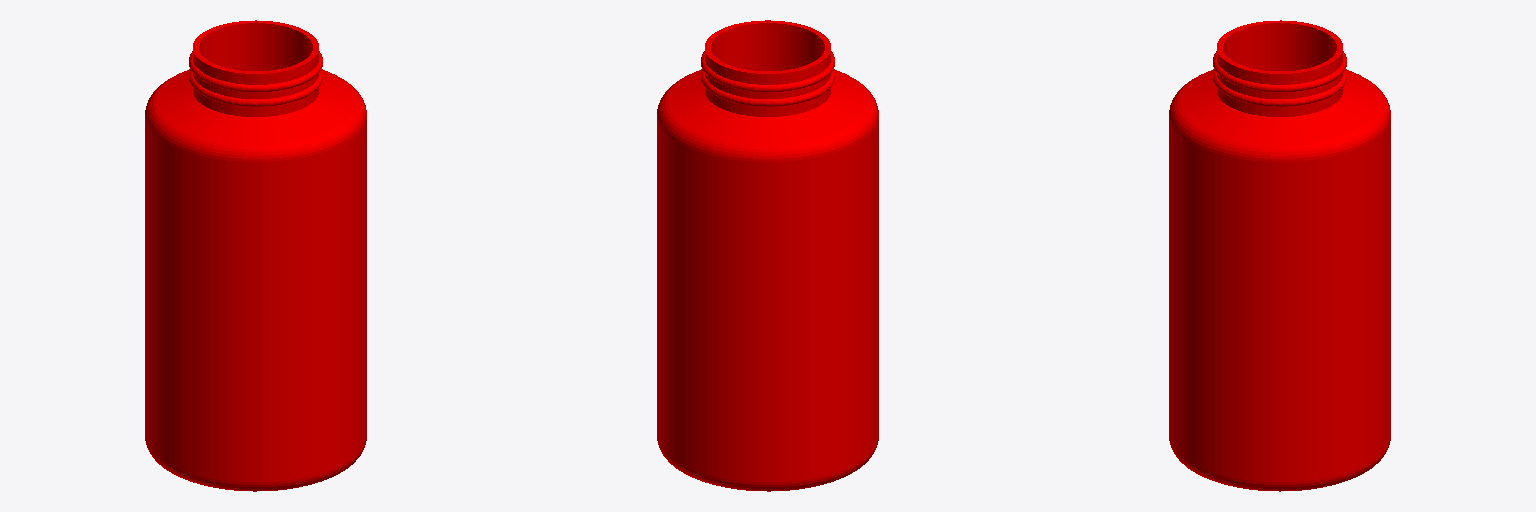
The robot description file, URDF, robot "bottle_body":
<?xml version="1.0"?>

<robot name="bottle_body">
  <link name="body">

    <inertial>
      <origin xyz="0 0 0" />
      <mass value="0.1" />
      <inertia  ixx="1" ixy="0.0"  ixz="0.0"  iyy="1"  iyz="0.0"  izz="1" />
    </inertial>

    <visual>
      <origin xyz="0 0 0"/>
      <geometry>
	<mesh filename="mesh/bottle_body.stl" />
      </geometry>
      <material name="red">
        <color rgba="1. 0. 0. 1."/>
      </material>
    </visual>

    <collision>
      <origin xyz="0 0 0"/>
      <geometry>
        <mesh filename="mesh/bottle_body.stl" />
      </geometry>
    </collision>
  </link>


</robot>

--- What the picture shows (computed from the rendered views, not written in the file) ---
Views: 3 orthographic renders of the robot side by side, from view 1: azimuth 30°, elevation 25°; view 2: azimuth 150°, elevation 25°; view 3: azimuth 270°, elevation 25°.
Robot: bottle_body — 1 links, 0 joints (none); root link body; default pose: all joints at 0.
Links seen in each view (by area): view 1: body; view 2: body; view 3: body.
Link boxes in pixels (box(x1,y1,x2,y2)): body: box(145, 20, 366, 491); body: box(657, 20, 878, 491); body: box(1169, 20, 1390, 491).
Bounding box of the posed robot: 0.07 × 0.07 × 0.14 m (x, y, z).
Meshes: 1 distinct files referenced, 1 mesh visuals loaded (1 binary STL).